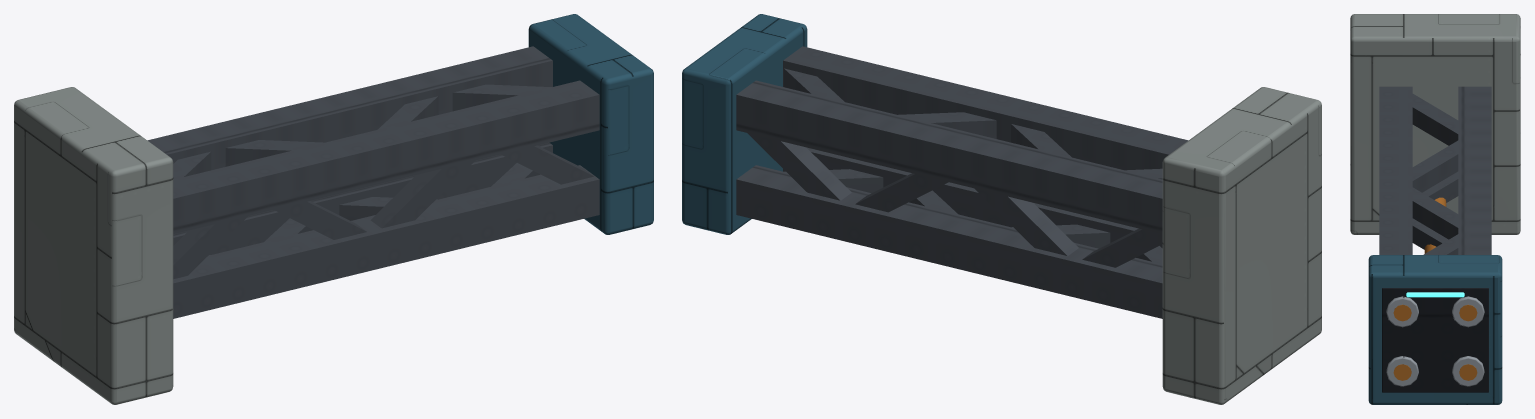
The model's file is service_umbilical_lod0.glb.
3 views of the same model, side by side, from view 1: azimuth 30°, elevation 25°; view 2: azimuth 150°, elevation 25°; view 3: azimuth 270°, elevation 25° (orthographic). The views are drawn at different scales.
Visible parts, largest first — view 1: LOD0_Mechanical, LOD0_Hull, LOD0_Armor; view 2: LOD0_Mechanical, LOD0_Hull, LOD0_Armor; view 3: LOD0_Hull, LOD0_Mechanical, LOD0_Armor, LOD0_MechanicalDark, LOD0_BrushedMetal, LOD0_Livery, LOD0_Lights_Cyan.
Boxes of the visible parts, left/top/right/bottom form: LOD0_Mechanical: left=147, top=46, right=599, bottom=318; LOD0_Hull: left=14, top=87, right=173, bottom=404; LOD0_Armor: left=528, top=14, right=653, bottom=234; LOD0_Mechanical: left=736, top=46, right=1188, bottom=318; LOD0_Hull: left=1162, top=87, right=1321, bottom=404; LOD0_Armor: left=682, top=14, right=807, bottom=234; LOD0_Hull: left=1350, top=14, right=1520, bottom=234; LOD0_Mechanical: left=1379, top=86, right=1491, bottom=254; LOD0_Armor: left=1368, top=255, right=1502, bottom=404; LOD0_MechanicalDark: left=1382, top=288, right=1488, bottom=392; LOD0_BrushedMetal: left=1386, top=296, right=1484, bottom=386; LOD0_Livery: left=1393, top=197, right=1477, bottom=380; LOD0_Lights_Cyan: left=1406, top=292, right=1464, bottom=297.
Bounding box in the file's own units: 4.5 × 1.8 × 1.4.
7 materials, 6 textured.
